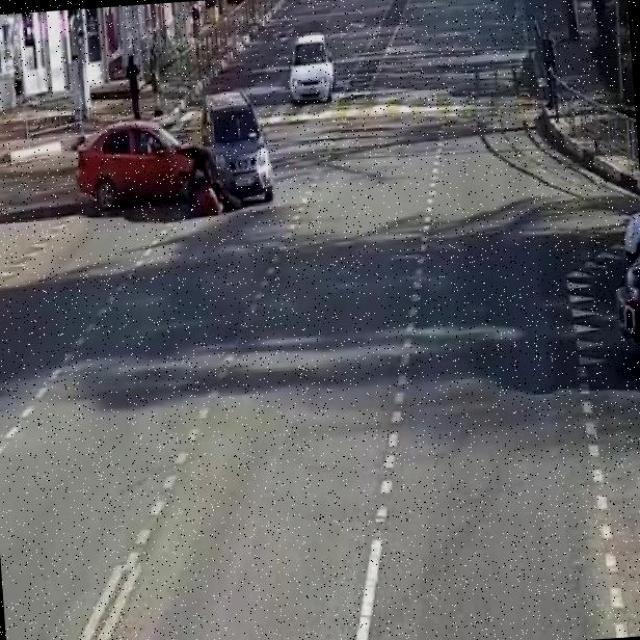accident: (158, 109, 264, 213)
